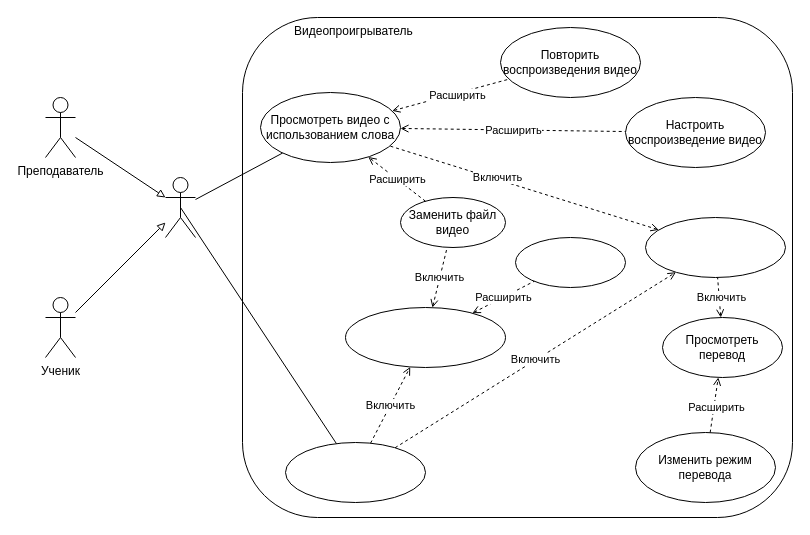
This 810x535 diagram has some shape labels left out. The shapes that lost their labels are listed below. From the top down, each one's centre as x and y in pixels, then its label:
the point at 180,207: Пользователь
the point at 570,262: Пополнить видеотеку
the point at 715,247: Просмотреть список слов в словаре пользователя
the point at 425,337: Просмотреть список файлов в видеотеке пользователя
the point at 355,472: Добавить видео с использованием слова
